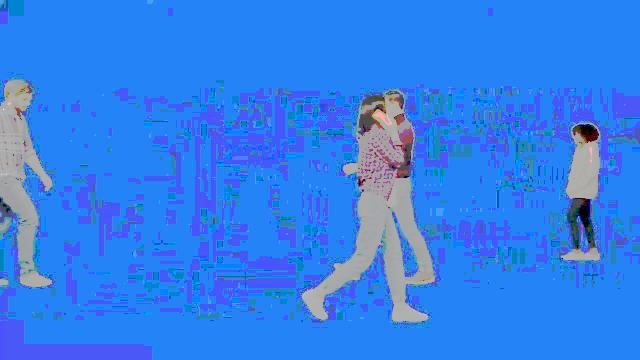berjalan: (286, 90, 434, 326), (0, 79, 58, 299), (550, 121, 606, 273)
